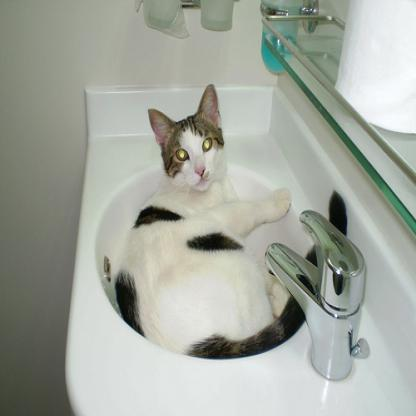cat: (115, 82, 347, 357)
